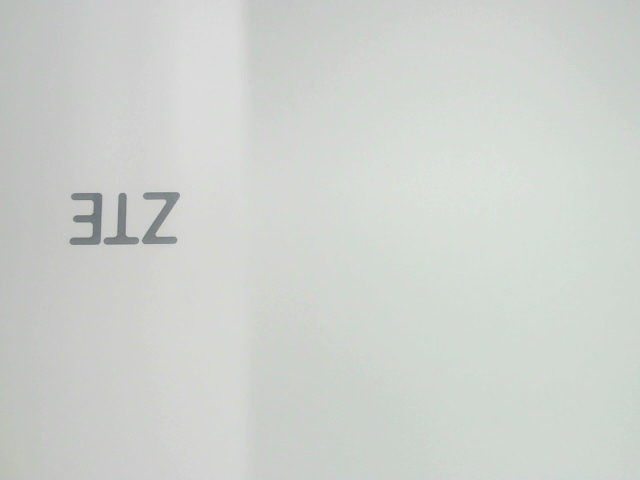AO_ZTESmall: (54, 176, 195, 258)
